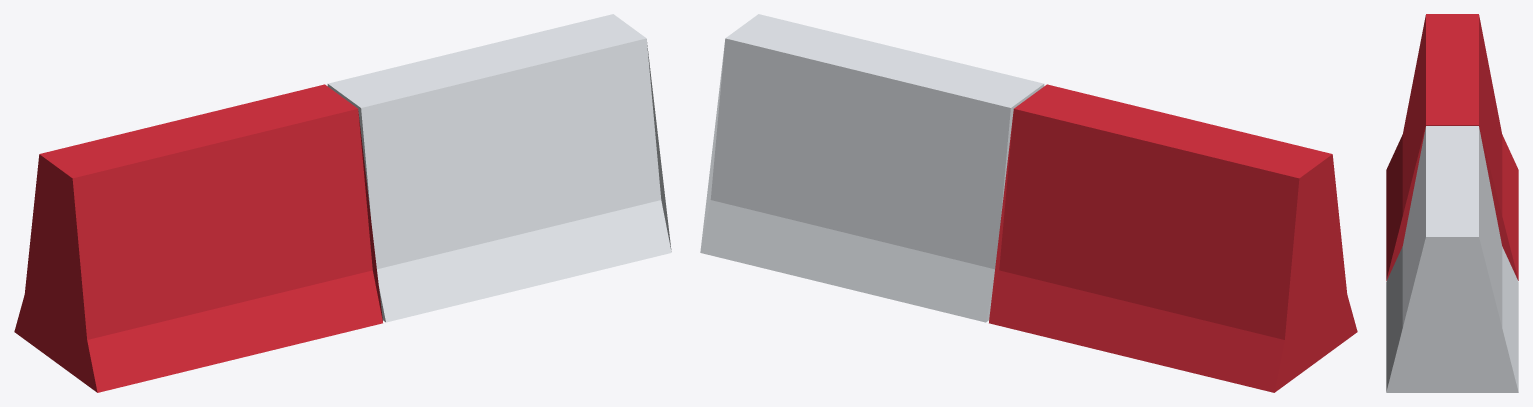
Rendered from Barrier.fbx.
3 renders of one model, left to right at view 1: azimuth 30°, elevation 25°; view 2: azimuth 150°, elevation 25°; view 3: azimuth 270°, elevation 25°, orthographic. The views are drawn at different scales.
Visible parts, largest first — view 1: Barrier; view 2: Barrier; view 3: Barrier.
Boxes of the visible parts, left/top/right/bottom form: Barrier: left=14, top=14, right=671, bottom=392; Barrier: left=700, top=14, right=1357, bottom=392; Barrier: left=1386, top=14, right=1518, bottom=392.
Bounding box in the file's own units: 7.96 × 2.6 × 2.
1 material, 1 textured.
